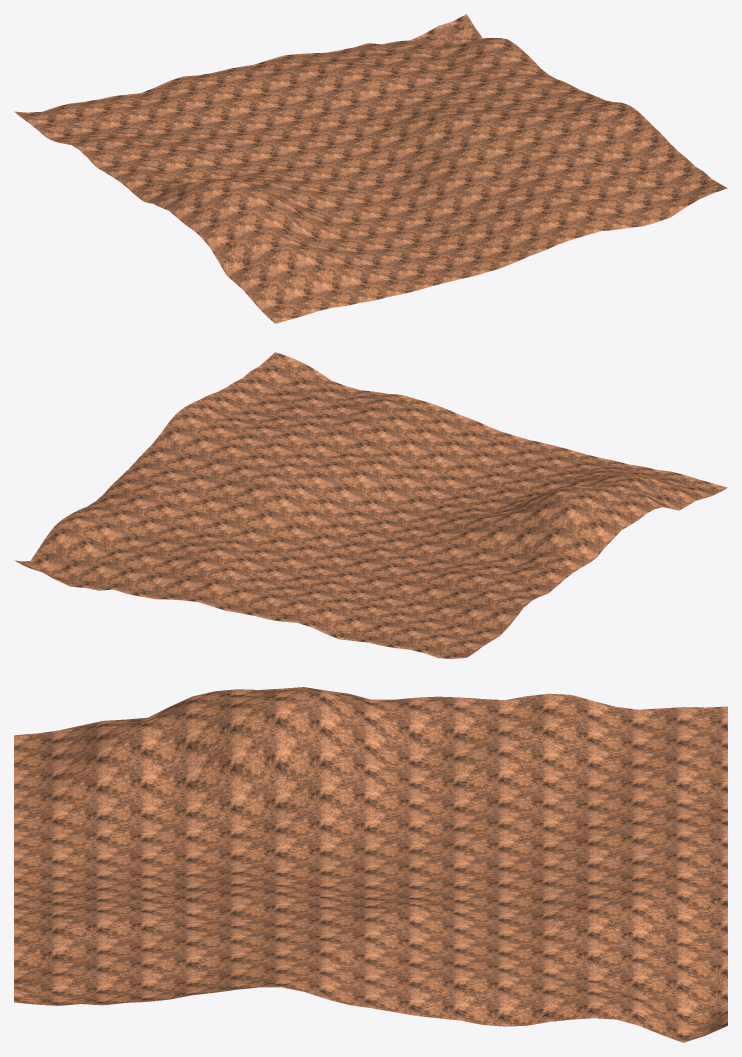
Rendered from terrain_03_05.dae.
The picture shows the model from 3 angles, top to bottom: view 1: azimuth 30°, elevation 25°; view 2: azimuth 150°, elevation 25°; view 3: azimuth 270°, elevation 25°; orthographic projection. The views are drawn at different scales.
Parts seen in each view (by area): view 1: terrain_03_05-node; view 2: terrain_03_05-node; view 3: terrain_03_05-node.
Part boxes in pixels (<box>): terrain_03_05-node: <box>14,14,727,323</box>; terrain_03_05-node: <box>14,352,727,658</box>; terrain_03_05-node: <box>14,687,727,1042</box>.
Bounding box in the file's own units: 128 × 128 × 15.48.
Materials: 1 (1 with a texture image).
